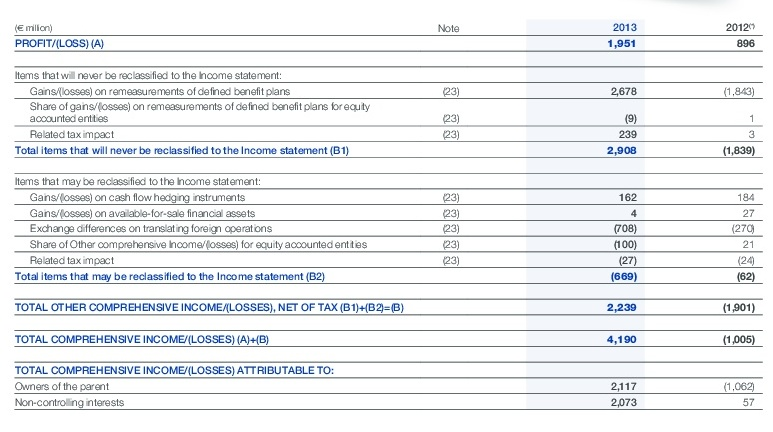table: (0, 0, 773, 432)
